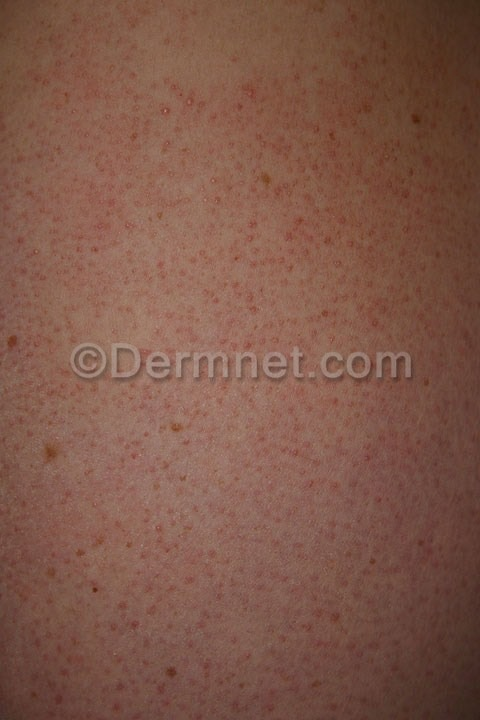Eczema: (4, 1, 477, 720)
